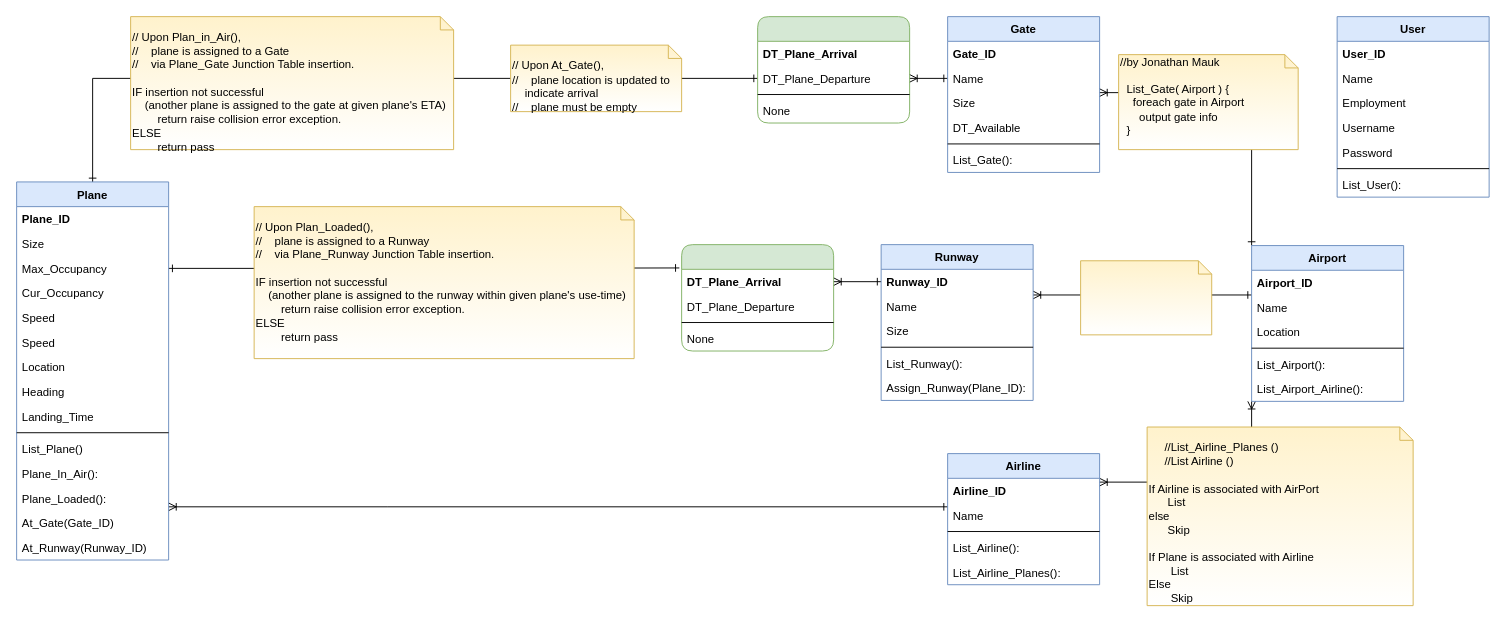
The diagram is 1506 pixels wide and 622 high, and some of its shapes have lost their labels. The shapes that lost their labels are listed below. From the top down, each one's box as (x1, y1, x2, y2) in pixels, then its label:
(757, 16, 910, 123): Plane_Gate
(681, 244, 834, 351): Plane_Runway
(1080, 260, 1212, 335): List_Runway(Airport) { foreach runway in Airport output runway info }
